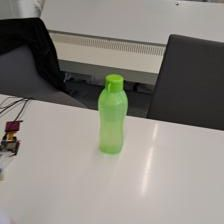bottle: (95, 71, 129, 152)
